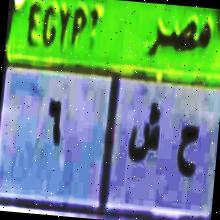6: (42, 92, 66, 155)
7aa: (173, 118, 203, 192)
sheen: (124, 94, 164, 173)
